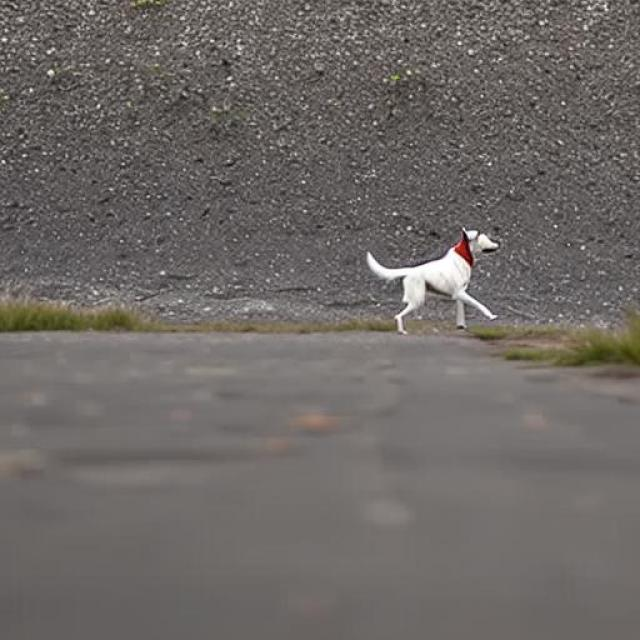Dog: (365, 227, 500, 337)
